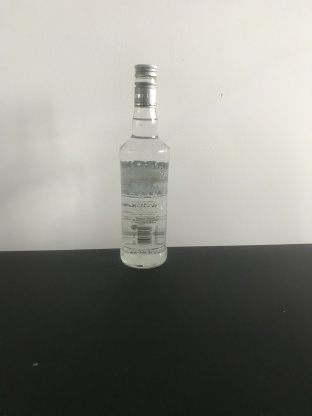nakretka: (132, 62, 158, 108)
